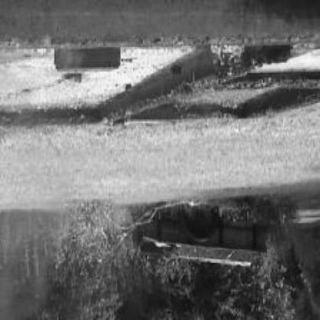Fire: (210, 41, 312, 75)
Smoke: (1, 247, 47, 317)
